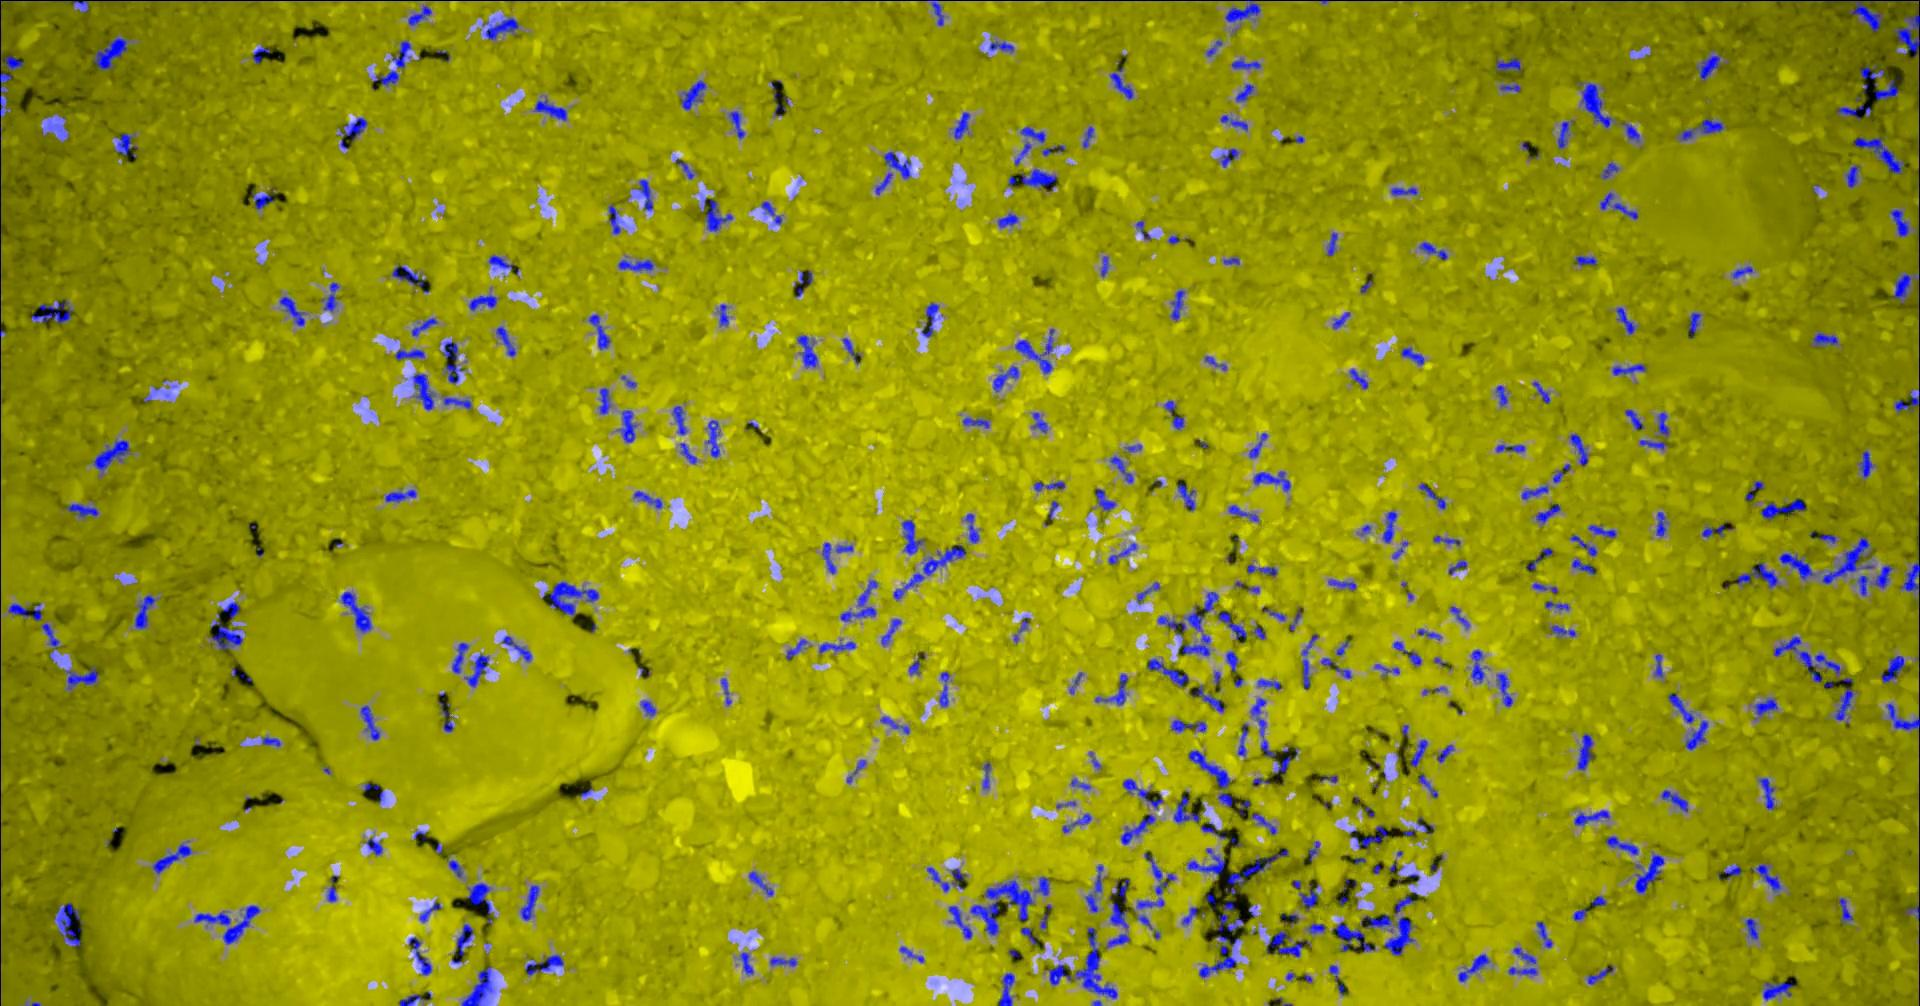ant: (893, 544, 965, 600), (1197, 901, 1243, 977), (1773, 636, 1840, 682), (1223, 848, 1288, 894), (1157, 605, 1209, 655), (193, 904, 259, 944), (1189, 749, 1232, 807), (1821, 536, 1873, 583), (1137, 851, 1175, 908), (541, 580, 598, 615), (1853, 136, 1903, 173), (1015, 328, 1053, 373), (1577, 81, 1614, 127), (1250, 697, 1275, 760), (841, 579, 877, 621), (0, 50, 23, 116), (1331, 921, 1375, 951), (340, 591, 371, 633), (91, 439, 130, 473), (1383, 916, 1415, 955), (55, 902, 83, 946), (1145, 658, 1189, 686), (1123, 779, 1162, 809), (461, 967, 491, 1005), (1266, 930, 1309, 956), (1634, 854, 1663, 893), (93, 37, 127, 70), (1733, 561, 1778, 587), (211, 614, 243, 649), (152, 843, 190, 873), (1008, 168, 1057, 189), (1599, 192, 1637, 218), (1186, 848, 1224, 875), (1677, 118, 1724, 140), (30, 298, 72, 323), (1120, 814, 1154, 843), (441, 340, 463, 384), (1095, 674, 1128, 704), (703, 197, 731, 231), (1779, 553, 1815, 579), (1189, 685, 1224, 711), (926, 868, 966, 890), (338, 117, 367, 149), (1302, 633, 1318, 688), (1884, 702, 1919, 729), (1760, 499, 1804, 520), (1217, 611, 1246, 641), (1457, 954, 1490, 981), (1900, 545, 1919, 591), (408, 937, 430, 976), (1751, 862, 1782, 890), (451, 923, 472, 963), (411, 373, 434, 410), (1084, 864, 1102, 911), (463, 653, 488, 687), (524, 954, 563, 976), (50, 0, 121, 11), (1892, 273, 1919, 304), (1667, 692, 1694, 723), (466, 882, 491, 913), (1350, 826, 1387, 847), (63, 666, 98, 688), (1509, 948, 1537, 976), (588, 314, 610, 349), (1109, 67, 1133, 99), (485, 17, 518, 39), (949, 904, 971, 937), (1253, 471, 1290, 492), (883, 151, 910, 178), (502, 635, 531, 661), (1225, 0, 1260, 22), (902, 520, 923, 554), (681, 80, 705, 111), (279, 296, 303, 326), (992, 365, 1018, 391), (1418, 483, 1445, 509), (1392, 641, 1421, 666), (135, 594, 155, 629), (535, 98, 566, 119), (1832, 688, 1854, 720), (1879, 655, 1903, 683), (1684, 720, 1707, 749), (391, 265, 423, 286), (796, 334, 817, 366), (1173, 796, 1199, 822), (1109, 455, 1133, 481), (361, 705, 378, 741), (748, 871, 773, 895), (1697, 53, 1719, 80), (921, 302, 938, 337), (1570, 533, 1596, 556), (521, 885, 538, 920), (1109, 542, 1137, 564), (1660, 789, 1688, 810), (495, 326, 516, 356), (1605, 836, 1638, 854), (114, 132, 137, 158), (1526, 547, 1552, 570), (1763, 981, 1793, 1000), (1615, 306, 1636, 334), (1496, 672, 1512, 706), (1570, 433, 1587, 465), (451, 641, 469, 673), (391, 39, 410, 69), (1062, 813, 1091, 832), (1873, 79, 1898, 100), (880, 619, 902, 644), (618, 409, 635, 442), (8, 603, 41, 620), (998, 972, 1015, 1005), (634, 179, 651, 210), (1888, 210, 1909, 236), (1577, 733, 1592, 768), (1573, 810, 1609, 826), (705, 419, 719, 457), (1757, 777, 1774, 809), (1836, 104, 1870, 119), (1895, 390, 1919, 412), (1535, 503, 1559, 525), (1251, 813, 1275, 835), (1418, 241, 1448, 259), (632, 490, 662, 508), (792, 269, 811, 296), (1586, 965, 1613, 984), (321, 282, 338, 312), (879, 716, 909, 733), (1176, 483, 1194, 511), (41, 622, 58, 650), (1137, 582, 1159, 603), (785, 638, 808, 659), (1109, 878, 1129, 902), (411, 318, 437, 337), (1248, 432, 1267, 457), (1557, 119, 1573, 149), (842, 337, 860, 363), (1410, 739, 1427, 766), (1110, 902, 1128, 929), (818, 639, 855, 652), (408, 5, 430, 25), (761, 201, 781, 224), (1095, 488, 1115, 511), (1228, 506, 1258, 521), (438, 701, 453, 732), (1328, 964, 1343, 995), (728, 111, 744, 138), (469, 293, 497, 310), (65, 503, 98, 517), (1470, 649, 1484, 682), (397, 991, 430, 1005), (1873, 564, 1892, 588), (1299, 884, 1317, 909), (1382, 511, 1396, 542), (952, 112, 969, 138), (1275, 747, 1291, 774), (1449, 606, 1469, 627), (419, 901, 439, 922), (846, 760, 865, 782), (1418, 774, 1437, 796), (1399, 347, 1423, 365), (1219, 114, 1247, 130), (1170, 290, 1183, 320), (1858, 450, 1873, 478), (822, 542, 836, 573), (1360, 915, 1390, 929), (927, 0, 943, 25), (1020, 126, 1045, 142), (251, 191, 273, 210), (672, 405, 686, 434), (964, 513, 978, 542), (371, 70, 397, 85), (874, 171, 891, 194), (617, 259, 653, 271), (1754, 697, 1777, 715), (1170, 719, 1205, 730), (1200, 823, 1227, 838), (383, 489, 415, 502), (1015, 141, 1031, 165), (488, 254, 512, 271), (1717, 862, 1741, 879), (1181, 907, 1205, 923), (1624, 409, 1643, 429), (1743, 480, 1763, 500), (1702, 525, 1732, 537), (363, 782, 383, 801), (1394, 894, 1415, 913), (676, 158, 693, 179), (1531, 381, 1549, 403), (221, 601, 239, 622), (1611, 363, 1644, 375), (1495, 57, 1521, 71), (1521, 485, 1548, 499), (1537, 921, 1550, 948), (1587, 525, 1617, 537), (1571, 559, 1595, 574), (899, 946, 923, 962), (1349, 368, 1368, 387), (1246, 564, 1277, 575), (1622, 121, 1639, 141), (938, 671, 949, 706), (1031, 412, 1048, 433), (679, 442, 696, 464), (1859, 65, 1884, 79), (1812, 332, 1837, 345), (1837, 897, 1851, 922), (1236, 83, 1253, 102), (1688, 312, 1702, 337), (1237, 723, 1247, 756), (997, 212, 1018, 227), (1203, 591, 1218, 612), (1374, 663, 1399, 676), (1845, 164, 1859, 187), (608, 205, 620, 232), (1327, 578, 1355, 589), (739, 951, 753, 974), (1220, 149, 1238, 166), (1552, 464, 1570, 481), (251, 47, 270, 64), (1034, 876, 1050, 895), (598, 387, 610, 414), (963, 417, 989, 428), (720, 678, 731, 705), (1204, 356, 1225, 370), (1230, 58, 1260, 69), (395, 349, 424, 359), (1436, 744, 1453, 762), (1416, 815, 1432, 833), (364, 837, 382, 854), (1135, 220, 1150, 239), (1655, 511, 1666, 536), (1531, 582, 1557, 593), (326, 875, 338, 901), (1106, 934, 1129, 946), (443, 398, 471, 408), (1743, 918, 1757, 939), (1032, 481, 1064, 490), (1657, 412, 1669, 436), (1550, 625, 1575, 636), (1731, 265, 1752, 278), (1601, 163, 1618, 179), (1332, 311, 1349, 328), (1020, 927, 1036, 944), (1390, 185, 1417, 196), (1432, 535, 1459, 545), (1448, 559, 1465, 574), (1326, 232, 1337, 255), (1417, 627, 1440, 639), (1257, 678, 1280, 690), (1495, 385, 1507, 405), (1307, 841, 1319, 861), (1206, 39, 1222, 56), (1903, 903, 1919, 920), (448, 859, 462, 876), (1082, 126, 1093, 147), (1043, 144, 1064, 155), (989, 41, 1013, 51), (1544, 600, 1568, 610), (1639, 439, 1666, 448), (982, 761, 990, 788), (770, 956, 796, 965), (717, 304, 728, 326), (640, 700, 655, 715), (1495, 445, 1524, 452), (1575, 255, 1596, 265), (1857, 575, 1868, 594), (1225, 652, 1237, 671), (1070, 779, 1090, 789), (1655, 653, 1662, 677), (1100, 255, 1109, 276), (262, 735, 279, 746), (1307, 923, 1324, 934), (1171, 415, 1183, 429), (908, 659, 919, 674), (1573, 908, 1589, 920), (1498, 84, 1520, 91), (1818, 533, 1835, 542), (836, 544, 852, 553), (1591, 895, 1605, 906), (1281, 915, 1297, 923), (0, 184, 1, 238)
